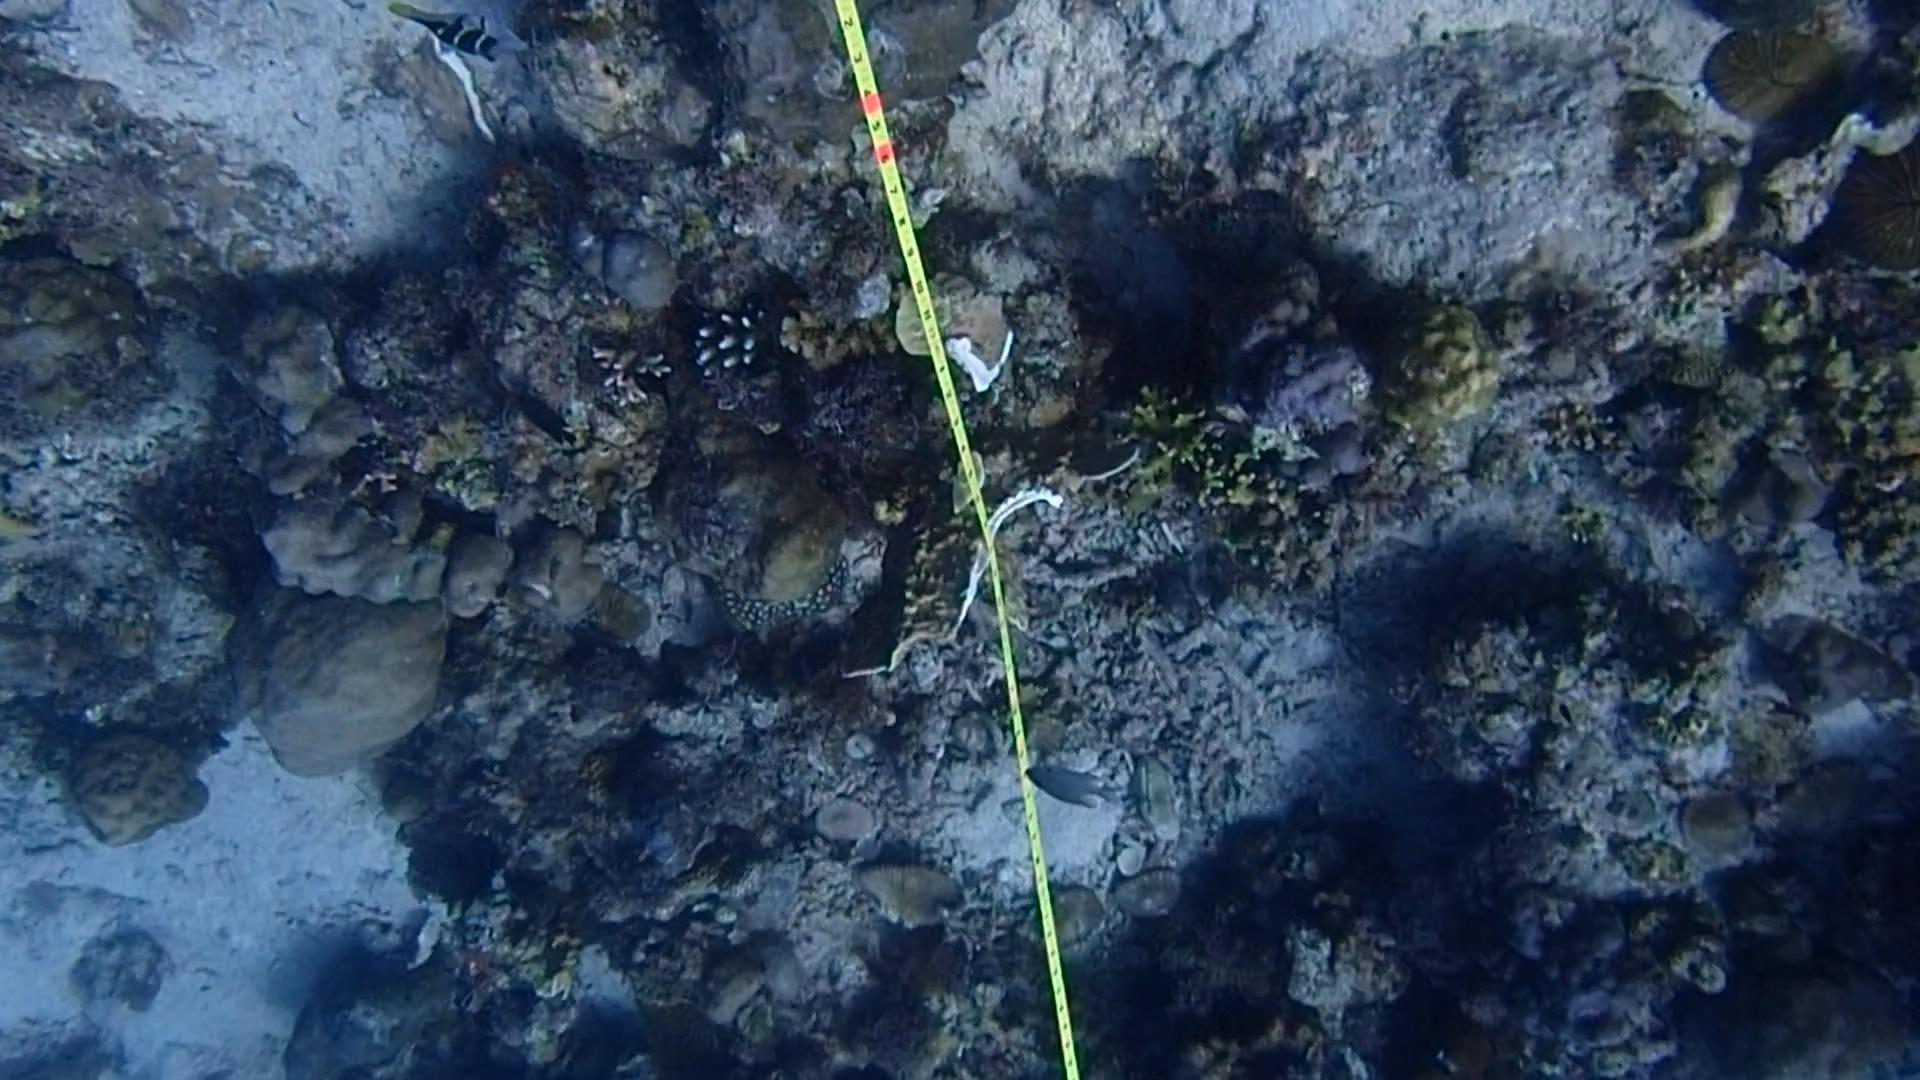Striped Fish: (400, 0, 505, 65)
